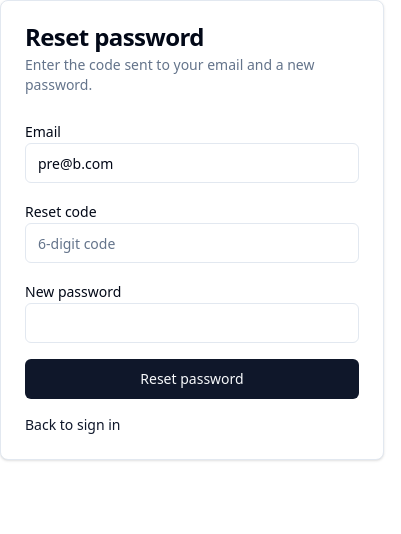
Test: auth-ui › Reset-password screen › blocks submit on invalid OTP or weak password
In the field labelled "Reset code": point(192, 243) [25,223,359,263], type "123"
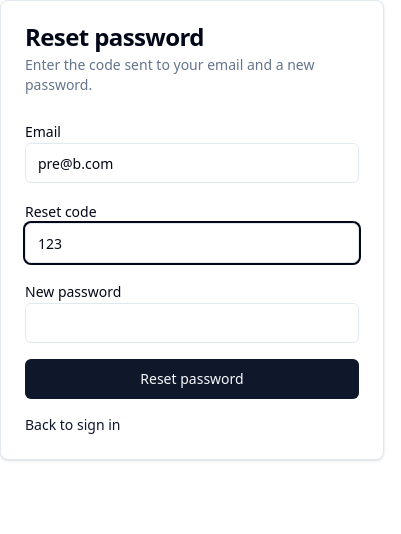
In the password field labelled "New password": point(192, 323) [25,303,359,343], type "short"
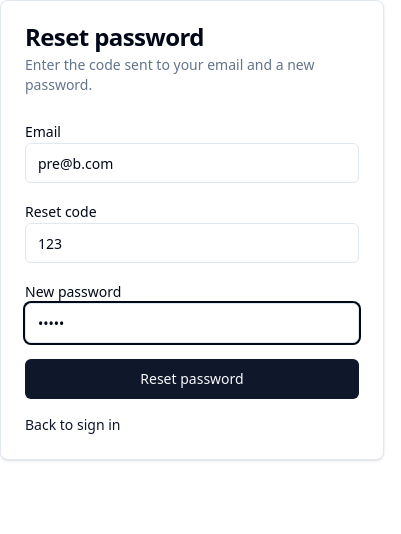
Click the button "Reset password": point(192, 379) [25,359,359,399]
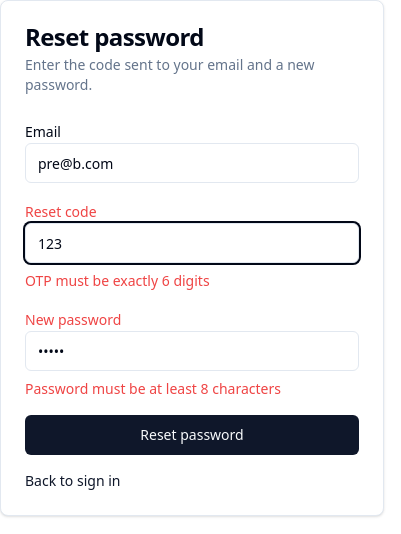
Result: the message "OTP must be exactly 6 digits" is shown at [25,271,210,290]
